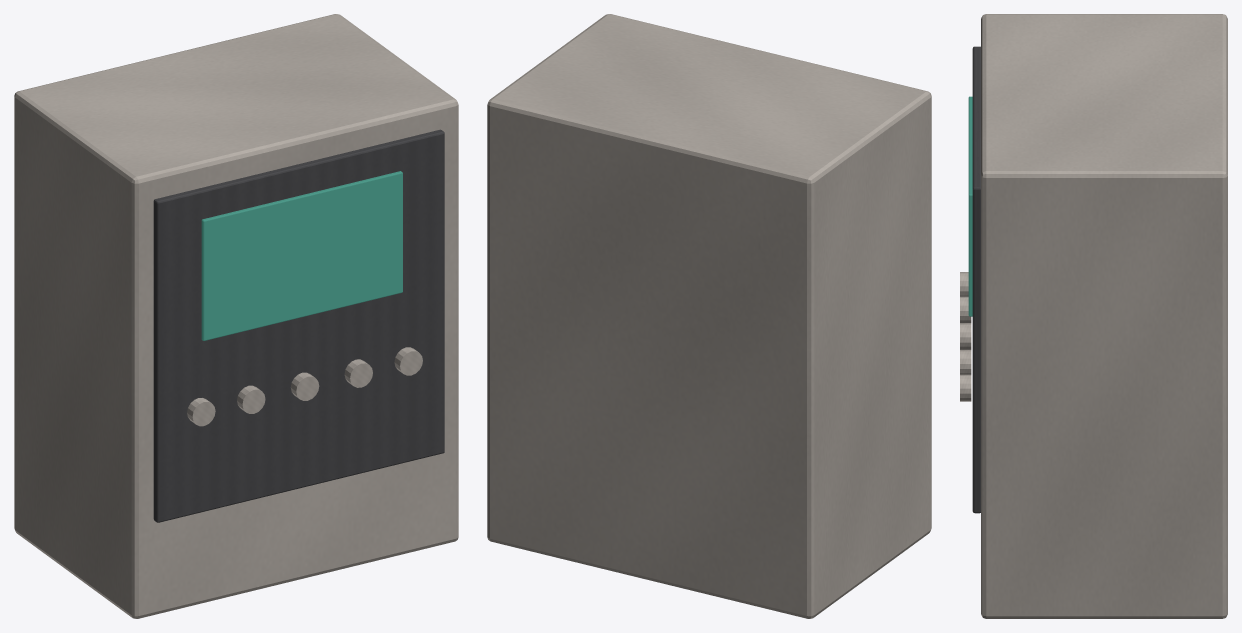
Rendered from measurement_console.glb.
The picture shows the model from 3 angles, left to right: view 1: azimuth 30°, elevation 25°; view 2: azimuth 150°, elevation 25°; view 3: azimuth 270°, elevation 25°; orthographic projection.
Visible parts, largest first — view 1: console_case, console_front, measurement_display, measurement_knob.003, measurement_knob, measurement_knob.001, measurement_knob.004, measurement_knob.002; view 2: console_case; view 3: console_case, console_front, measurement_display.
Part boxes in pixels (x1,y1,x2,y2): console_case: [14, 14, 458, 618]; console_front: [153, 129, 444, 522]; measurement_display: [201, 171, 402, 340]; measurement_knob.003: [344, 359, 372, 387]; measurement_knob: [187, 398, 215, 426]; measurement_knob.001: [237, 385, 265, 413]; measurement_knob.004: [394, 347, 422, 375]; measurement_knob.002: [290, 372, 319, 400]; console_case: [487, 14, 931, 618]; console_case: [981, 14, 1227, 618]; console_front: [972, 46, 980, 513]; measurement_display: [968, 96, 972, 316].
Size of the model in its own units: 0.85 by 1.1 by 0.5965.
3 materials, 2 textured.
